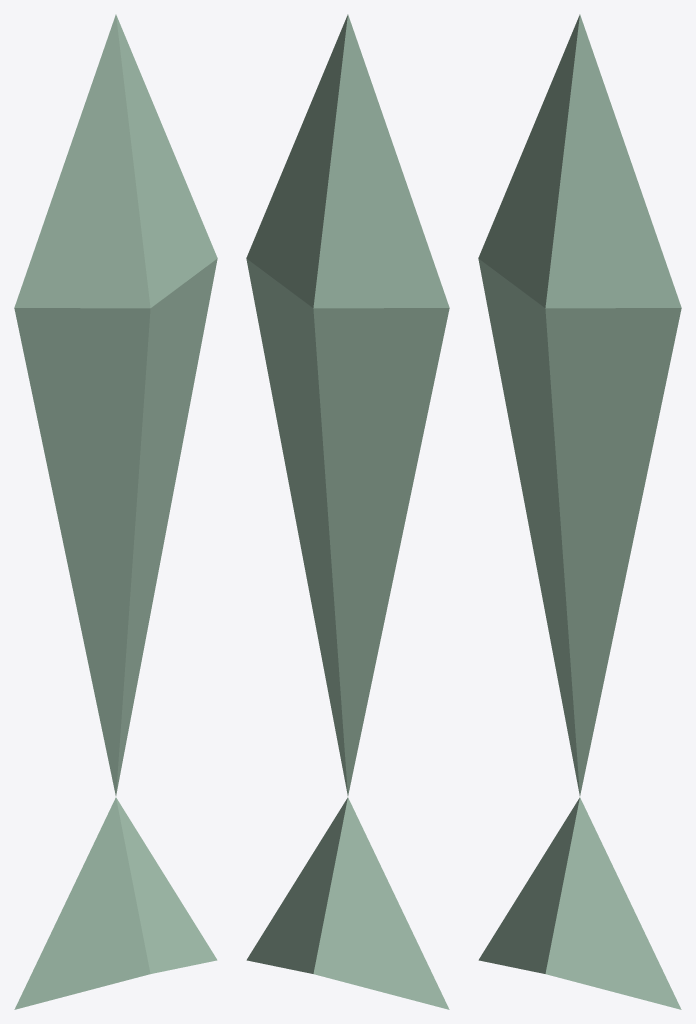
Rendered from fish_mat.fbx.
3 renders of one model, left to right at view 1: azimuth 30°, elevation 25°; view 2: azimuth 150°, elevation 25°; view 3: azimuth 330°, elevation 25°, orthographic.
Parts seen in each view (by area): view 1: fish_mat; view 2: fish_mat; view 3: fish_mat.
Boxes of the visible parts, box(x1,y1,x2,y2) form: fish_mat: box(14, 14, 217, 1009); fish_mat: box(246, 14, 449, 1009); fish_mat: box(478, 14, 681, 1009).
Size of the model in its own units: 7 by 31.93 by 4.12.
